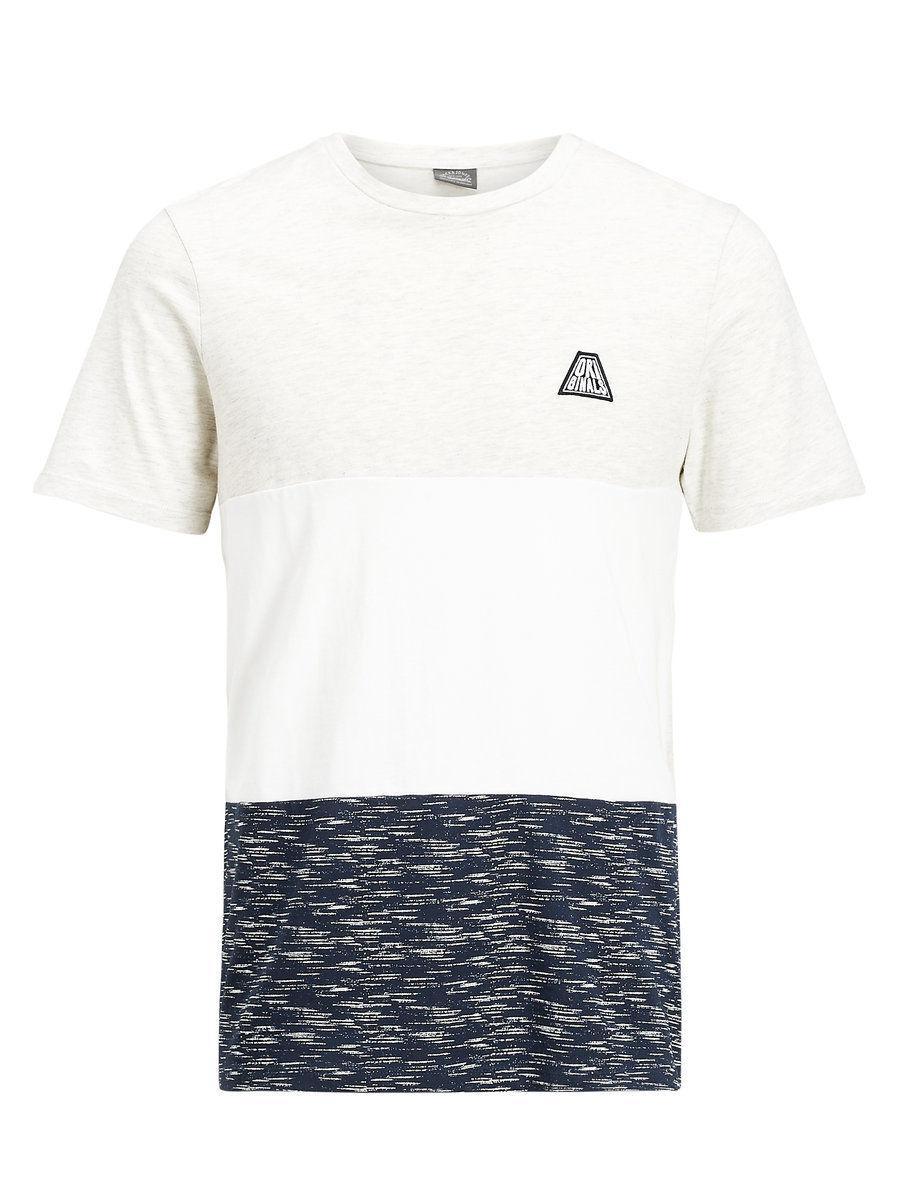teeshirt: (29, 114, 894, 1129)
